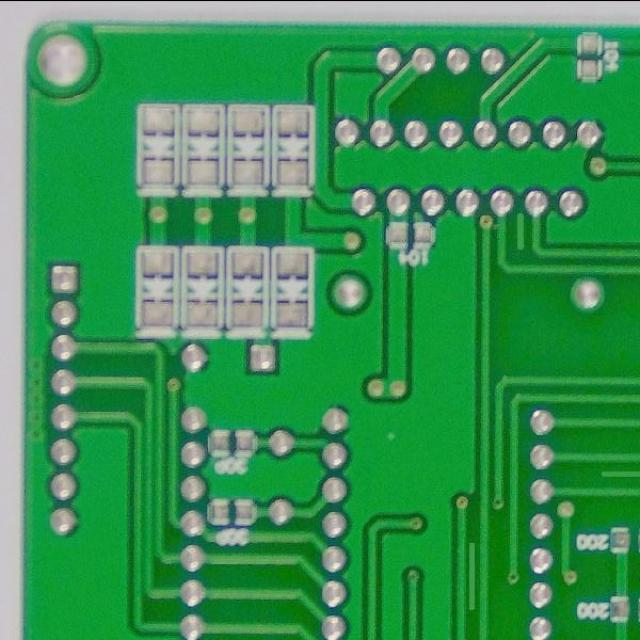Spurious_Cooper: (465, 538, 480, 614), (512, 207, 529, 253), (597, 466, 639, 481)
